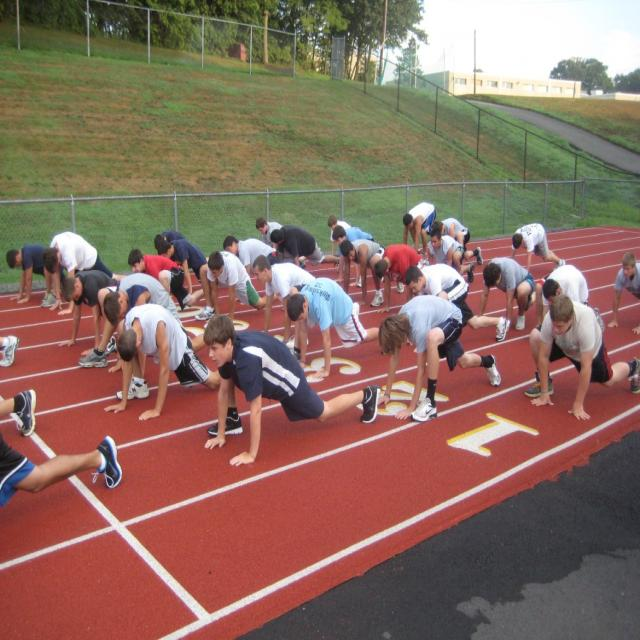body: (202, 312, 382, 468), (377, 294, 501, 423), (522, 290, 639, 423), (103, 302, 222, 421), (78, 272, 207, 374), (285, 276, 382, 380), (0, 433, 124, 508), (403, 261, 512, 343), (41, 229, 129, 317), (252, 253, 318, 355), (194, 250, 285, 322), (127, 247, 222, 311), (57, 268, 119, 357), (338, 237, 404, 308), (477, 255, 537, 332), (373, 242, 431, 316), (5, 242, 68, 305), (269, 225, 340, 272), (254, 216, 322, 263), (540, 261, 591, 320), (606, 251, 640, 335), (508, 222, 566, 271), (426, 226, 474, 284), (156, 238, 208, 291), (430, 216, 484, 266), (222, 234, 282, 279), (332, 225, 374, 288), (402, 201, 436, 256), (0, 386, 37, 434), (327, 213, 352, 256), (153, 228, 188, 251), (0, 334, 21, 369)
